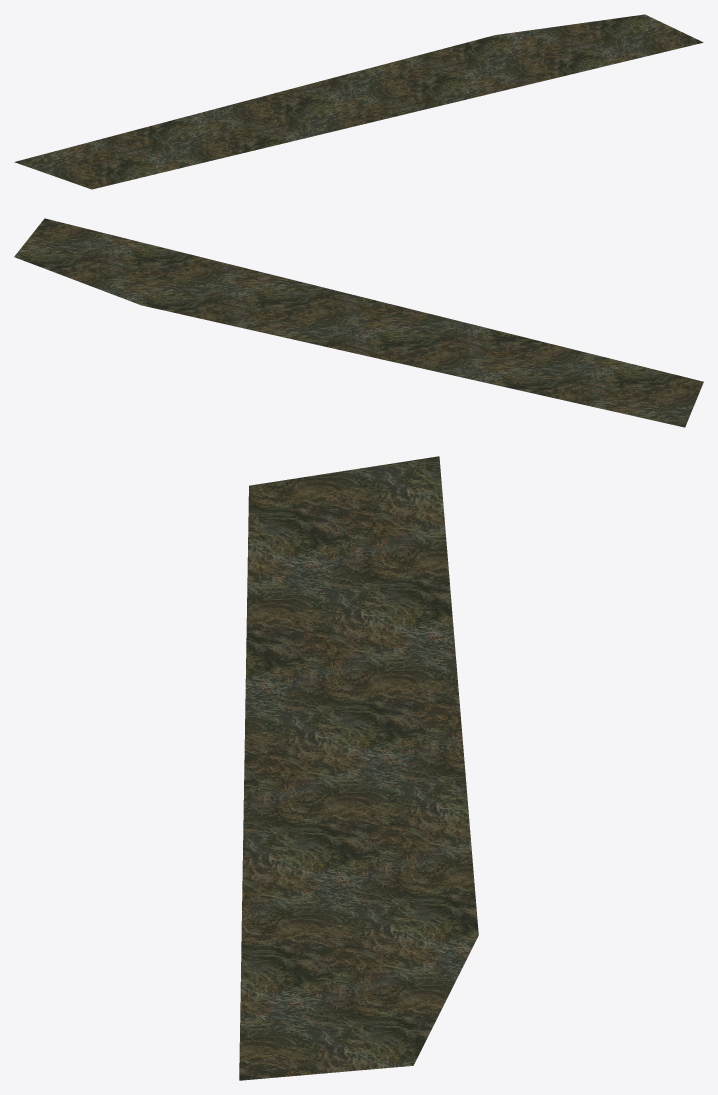
Rendered from water4.fbx.
The picture shows the model from 3 angles, top to bottom: view 1: azimuth 30°, elevation 25°; view 2: azimuth 150°, elevation 25°; view 3: azimuth 270°, elevation 25°; orthographic projection. The views are drawn at different scales.
Visible parts, largest first — view 1: water4; view 2: water4; view 3: water4.
Part boxes in pixels (box(x1,y1,x2,y2)): water4: box(14, 14, 703, 189); water4: box(14, 218, 703, 427); water4: box(239, 456, 478, 1080).
Size of the model in its own units: 18304 by 0.1484 by 2967.
